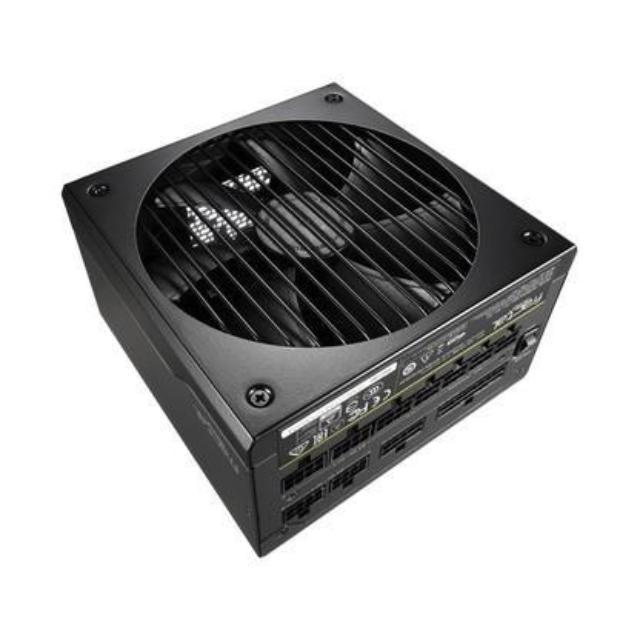PSU: (56, 79, 581, 561)
